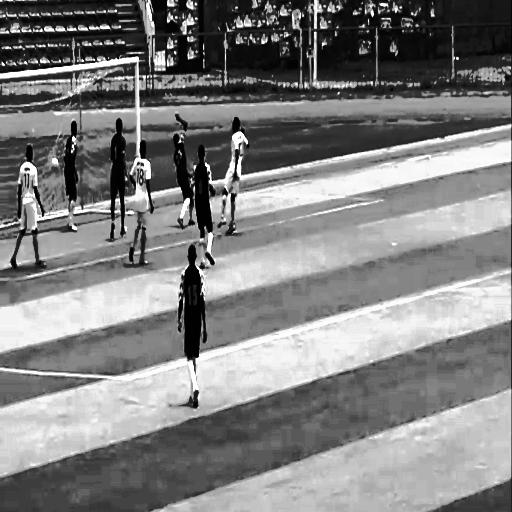ball: (47, 152, 64, 178)
keeper2: (106, 109, 130, 256)
team1: (2, 142, 54, 288), (217, 114, 250, 240), (126, 134, 153, 280)
team2: (172, 239, 216, 422), (189, 138, 220, 276), (60, 108, 86, 234), (170, 108, 196, 232)
